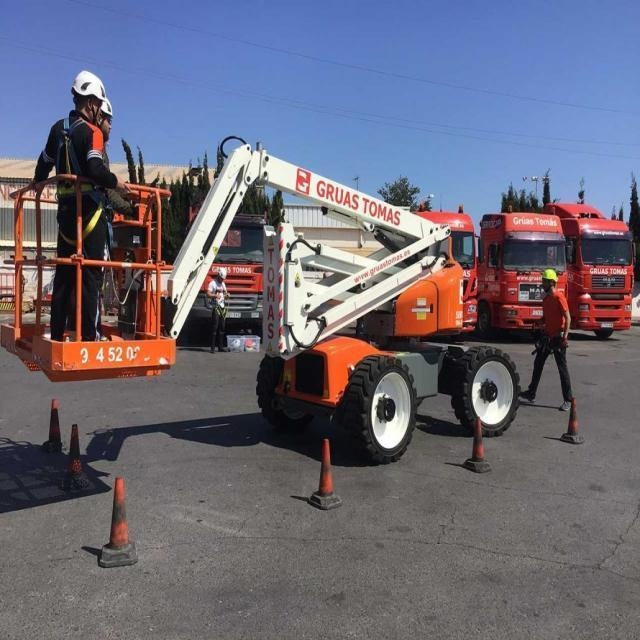Arnes_seguridad: (58, 119, 109, 245)
